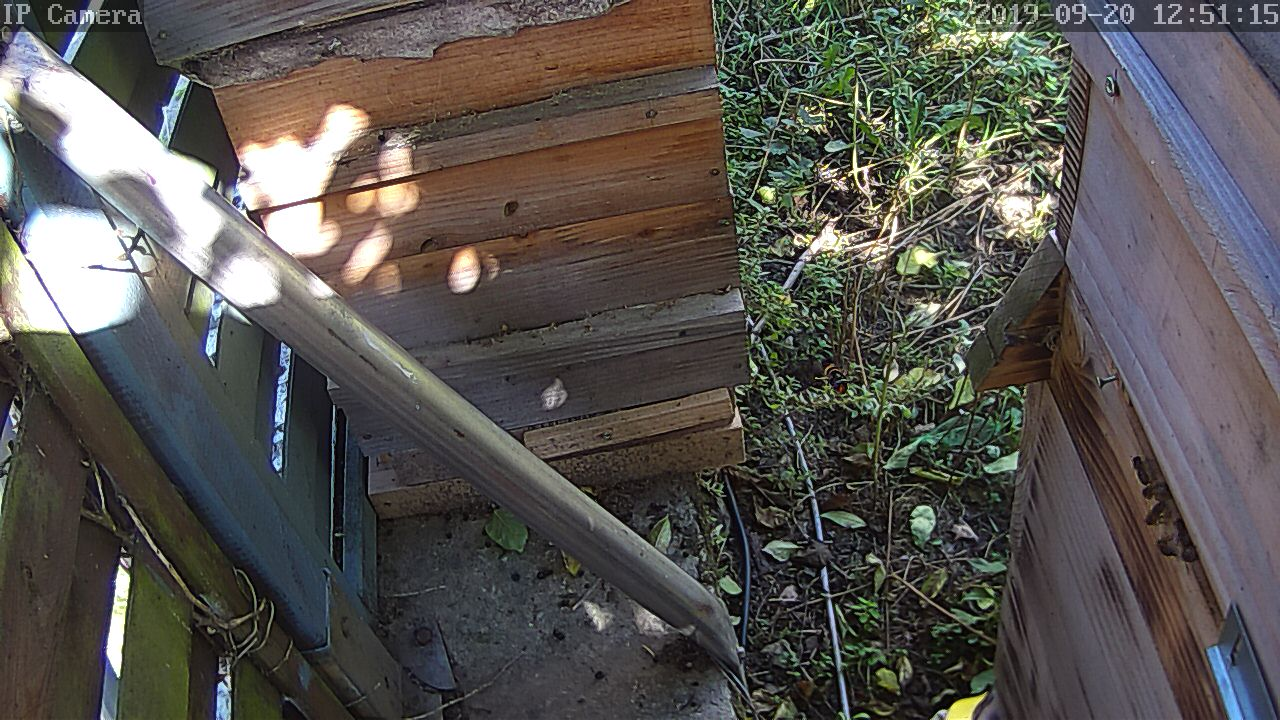bee: (1138, 486, 1172, 537), (1159, 529, 1196, 568)
hornet: (808, 345, 850, 400)
